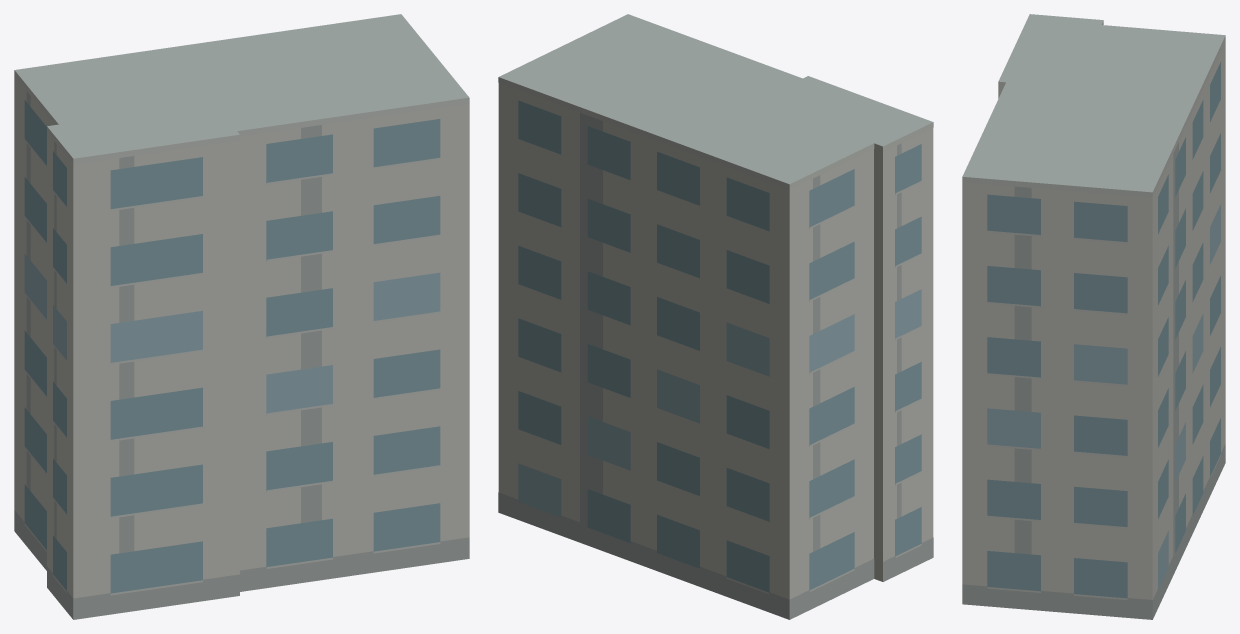
The model's file is survey-upis-32794898.glb.
3 renders of one model, left to right at view 1: azimuth 30°, elevation 25°; view 2: azimuth 150°, elevation 25°; view 3: azimuth 270°, elevation 25°, orthographic. The views are drawn at different scales.
Visible parts, largest first — view 1: survey-upis-32794898.tmp; view 2: survey-upis-32794898.tmp; view 3: survey-upis-32794898.tmp.
Part boxes in pixels (left/top/right/bottom): survey-upis-32794898.tmp: left=14, top=14, right=469, bottom=619; survey-upis-32794898.tmp: left=498, top=14, right=933, bottom=619; survey-upis-32794898.tmp: left=962, top=14, right=1225, bottom=619.
Size of the model in its own units: 16.96 by 18.95 by 10.59.
